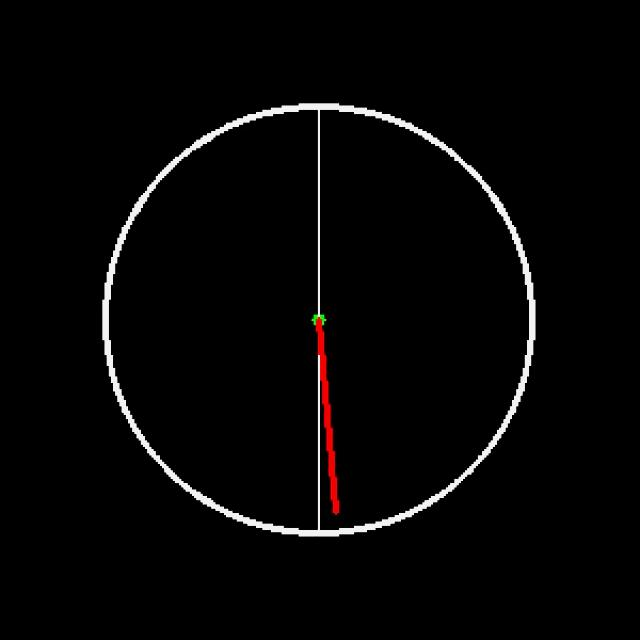Needle_Tip: (302, 460, 365, 525)
Needle_base: (290, 291, 352, 349)
